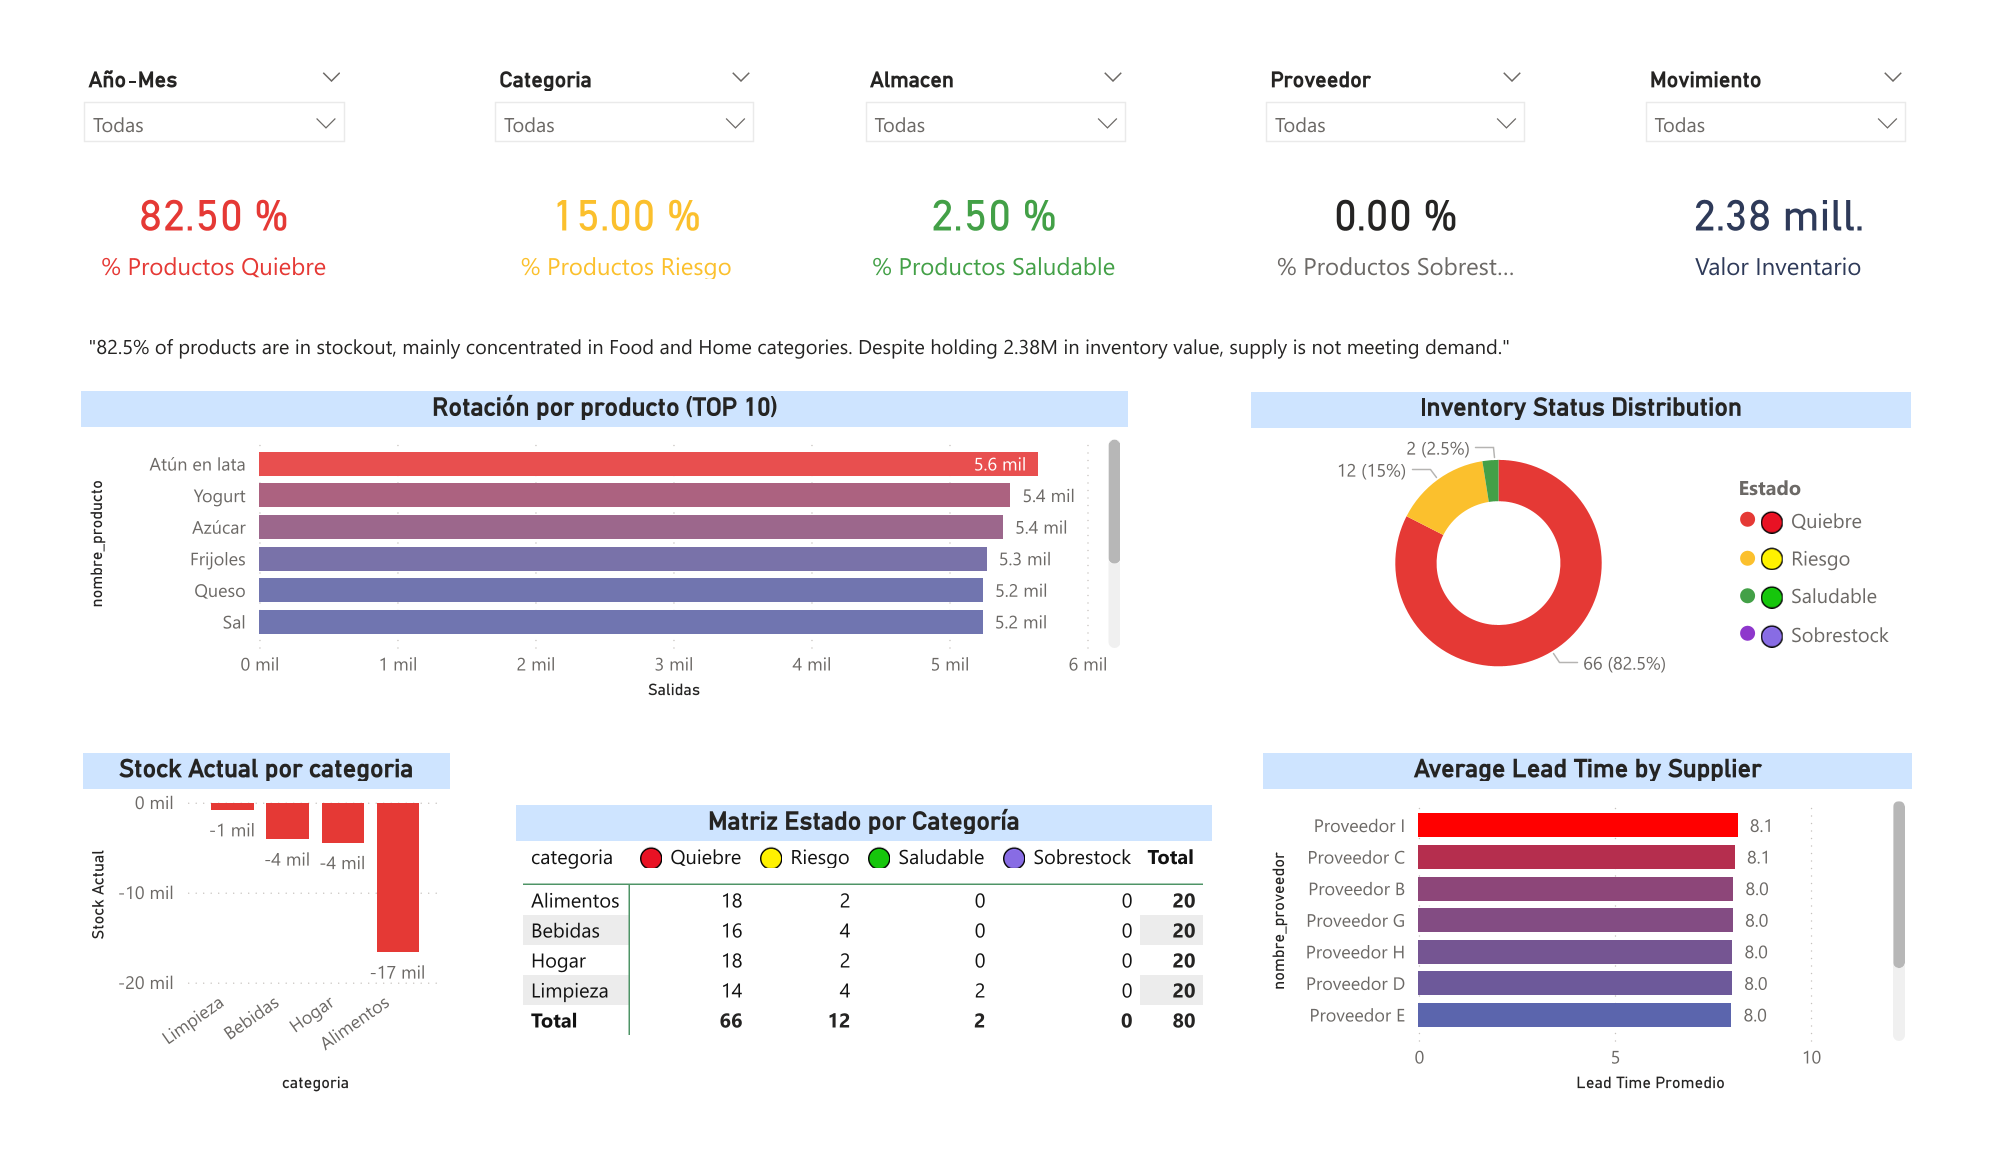

The dashboard page shown, as its layout file describes it:
{"tool":"powerbi","page":{"name":"Executive Overview","canvas":[1280,720],"ordinal":0},"visuals":[{"type":"card","fields":{"Values":["fact_movimientos.% Productos Quiebre"]},"box":[30.2,90.3,177,76.8],"z":0},{"type":"card","fields":{"Values":["fact_movimientos.% Productos Saludable"]},"box":[550.2,90.3,177,76.8],"z":1000},{"type":"card","fields":{"Values":["fact_movimientos.% Productos Riesgo"]},"box":[304.6,90.3,177,76.8],"z":2000},{"type":"card","fields":{"Values":["fact_movimientos.% Productos Sobrestock"]},"box":[817.8,90.3,177,76.8],"z":3000},{"type":"clusteredBarChart","title":"Rotación por producto (TOP 10)","fields":{"Y":["fact_movimientos.Salidas"],"Category":["dim_productos.nombre_producto"]},"box":[30.2,236.6,697.3,209.9],"z":4000},{"type":"donutChart","title":"Inventory Status Distribution","fields":{"Category":["Tabla Estados.Estado"],"Y":["Tabla Estados.Conteo Productos"]},"box":[809.5,236.6,440.4,209.9],"z":5000},{"type":"pivotTable","title":"Matriz Estado por Categoría","fields":{"Rows":["dim_productos.categoria"],"Values":["Tabla Estados.Conteo Productos Estado"],"Columns":["Tabla Estados.Estado"]},"box":[319.7,513.2,463.8,160.5],"z":6000},{"type":"clusteredBarChart","title":"Average Lead Time by Supplier","fields":{"Y":["fact_movimientos.Lead Time Promedio"],"Category":["dim_proveedores.nombre_proveedor"]},"box":[818,477.8,433.1,231.6],"z":7000},{"type":"clusteredColumnChart","fields":{"Category":["dim_productos.categoria"],"Y":["fact_movimientos.Stock Actual"]},"box":[31.4,477.8,244.9,231.6],"z":8000},{"type":"card","fields":{"Values":["fact_movimientos.Valor Inventario"]},"box":[1073,90.3,177,76.8],"z":9000},{"type":"slicer","fields":{"Values":["dim_fecha.Año-Mes"]},"box":[21.7,15.7,194.2,68.8],"z":10000},{"type":"slicer","fields":{"Values":["dim_productos.categoria"]},"box":[295.6,15.7,193,68.8],"z":11000},{"type":"slicer","fields":{"Values":["dim_almacenes.nombre_almacen"]},"box":[542.9,15.7,194.2,68.8],"z":12000},{"type":"slicer","fields":{"Values":["dim_proveedores.nombre_proveedor"]},"box":[809.5,15.7,193,68.8],"z":13000},{"type":"slicer","fields":{"Values":["fact_movimientos.tipo_movimiento"]},"box":[1062.9,15.7,194.2,68.8],"z":14000},{"type":"textbox","box":[30.2,193,1219.7,37.4],"z":15000}]}

Visuals, with their boxes in screenshot pixels (x1, y1, x2, y2), scaled from the page's 1280x720 canvas onto the 1992x1152 screenshot:
card - fact_movimientos.% Productos Quiebre: 47, 144, 322, 267
card - fact_movimientos.% Productos Saludable: 856, 144, 1132, 267
card - fact_movimientos.% Productos Riesgo: 474, 144, 749, 267
card - fact_movimientos.% Productos Sobrestock: 1273, 144, 1548, 267
"Rotación por producto (TOP 10)" clusteredBarChart: 47, 379, 1132, 714
"Inventory Status Distribution" donutChart: 1260, 379, 1945, 714
"Matriz Estado por Categoría" pivotTable: 498, 821, 1219, 1078
"Average Lead Time by Supplier" clusteredBarChart: 1273, 764, 1947, 1135
clusteredColumnChart - dim_productos.categoria x fact_movimientos.Stock Actual: 49, 764, 430, 1135
card - fact_movimientos.Valor Inventario: 1670, 144, 1945, 267
slicer - dim_fecha.Año-Mes: 34, 25, 336, 135
slicer - dim_productos.categoria: 460, 25, 760, 135
slicer - dim_almacenes.nombre_almacen: 845, 25, 1147, 135
slicer - dim_proveedores.nombre_proveedor: 1260, 25, 1560, 135
slicer - fact_movimientos.tipo_movimiento: 1654, 25, 1956, 135
textbox: 47, 309, 1945, 369
